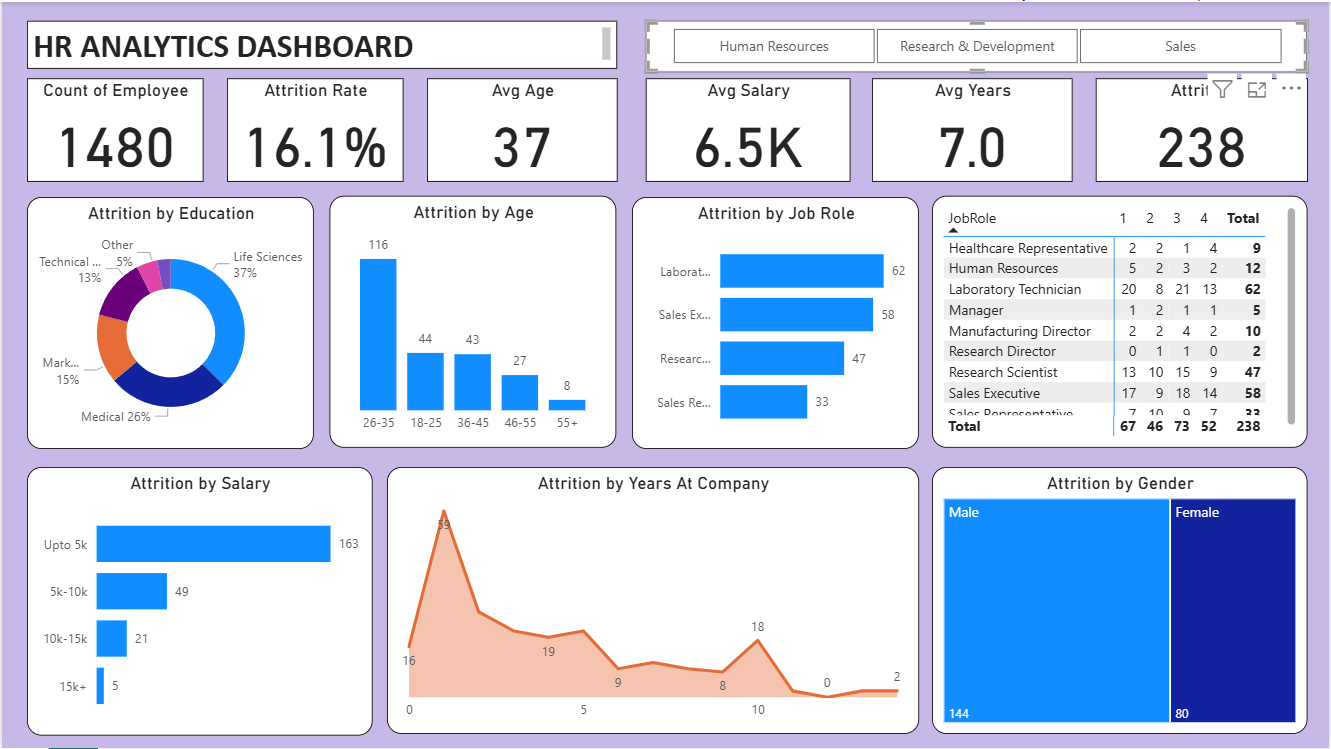

What the dashboard file says about the page in this screenshot:
{"tool":"powerbi","page":{"name":"Page 1","canvas":[1280,720],"ordinal":0},"visuals":[{"type":"card","title":"Count of Employee","fields":{"Values":["CountNonNull(HR_Analytics.EmpID)"]},"box":[24.7,73.6,170.2,100.2],"z":0},{"type":"card","title":"Attrition Rate","fields":{"Values":["HR_Analytics.AttritionRate"]},"box":[216.8,73.6,170.2,100.2],"z":1000},{"type":"card","title":"Avg Age","fields":{"Values":["Avg(HR_Analytics.Age)"]},"box":[410.3,73.6,183.9,100.2],"z":2000},{"type":"card","title":"Avg Salary","fields":{"Values":["Avg(HR_Analytics.MonthlyIncome)"]},"box":[621.6,74.1,197.6,100.2],"z":3000},{"type":"card","title":"Avg Years","fields":{"Values":["Avg(HR_Analytics.YearsAtCompany)"]},"box":[839.8,74.1,193.5,100.2],"z":4000},{"type":"donutChart","title":"Attrition by Education","fields":{"Y":["Sum(HR_Analytics.AttritionCount)"],"Category":["HR_Analytics.EducationField"]},"box":[23.6,188,277.2,242.9],"z":5000},{"type":"columnChart","title":"Attrition by Age","fields":{"Category":["HR_Analytics.AgeGroup"],"Y":["Sum(HR_Analytics.AttritionCount)"]},"box":[315.9,186.6,277.2,242.9],"z":6000},{"type":"pivotTable","fields":{"Rows":["HR_Analytics.JobRole"],"Columns":["HR_Analytics.JobSatisfaction"],"Values":["Sum(HR_Analytics.AttritionCount)"]},"box":[897.7,186.6,362.3,242.9],"z":7000},{"type":"barChart","title":"Attrition by Salary","fields":{"Category":["HR_Analytics.SalarySlab"],"Y":["Sum(HR_Analytics.AttritionCount)"]},"box":[23.6,448.7,333.4,259.3],"z":8000},{"type":"clusteredBarChart","title":"Attrition by Job Role","fields":{"Category":["HR_Analytics.JobRole"],"Y":["Sum(HR_Analytics.AttritionCount)"]},"box":[608.2,188,277.2,242.9],"z":9000},{"type":"areaChart","title":"Attrition by Years At Company","fields":{"Category":["HR_Analytics.YearsAtCompany"],"Y":["Sum(HR_Analytics.AttritionCount)"]},"box":[372.1,448.7,513.2,258],"z":10000},{"type":"treemap","title":"Attrition by Gender","fields":{"Group":["HR_Analytics.Gender"],"Values":["Sum(HR_Analytics.AttritionCount)"]},"box":[906,448.8,361.9,258.2],"z":11000},{"type":"slicer","fields":{"Values":["HR_Analytics.Department"]},"box":[621.6,17.8,638.1,49.4],"z":12000},{"type":"textbox","box":[24.7,17.8,569.5,46.7],"z":13000},{"type":"card","title":"Attrition","fields":{"Values":["Sum(HR_Analytics.AttritionCount)"]},"box":[1055.2,74.1,204.5,100.2],"z":14000}]}

Visuals, with their boxes in screenshot pixels (x1, y1, x2, y2), scaled from the page's 1280x720 canvas onto the 1331x749 screenshot:
"Count of Employee" card: BBox(26, 77, 203, 181)
"Attrition Rate" card: BBox(225, 77, 402, 181)
"Avg Age" card: BBox(427, 77, 618, 181)
"Avg Salary" card: BBox(646, 77, 852, 181)
"Avg Years" card: BBox(873, 77, 1074, 181)
"Attrition by Education" donutChart: BBox(25, 196, 313, 448)
"Attrition by Age" columnChart: BBox(328, 194, 617, 447)
pivotTable - HR_Analytics.JobRole x HR_Analytics.JobSatisfaction: BBox(933, 194, 1310, 447)
"Attrition by Salary" barChart: BBox(25, 467, 371, 737)
"Attrition by Job Role" clusteredBarChart: BBox(632, 196, 921, 448)
"Attrition by Years At Company" areaChart: BBox(387, 467, 921, 735)
"Attrition by Gender" treemap: BBox(942, 467, 1318, 735)
slicer - HR_Analytics.Department: BBox(646, 19, 1310, 70)
textbox: BBox(26, 19, 618, 67)
"Attrition" card: BBox(1097, 77, 1310, 181)
